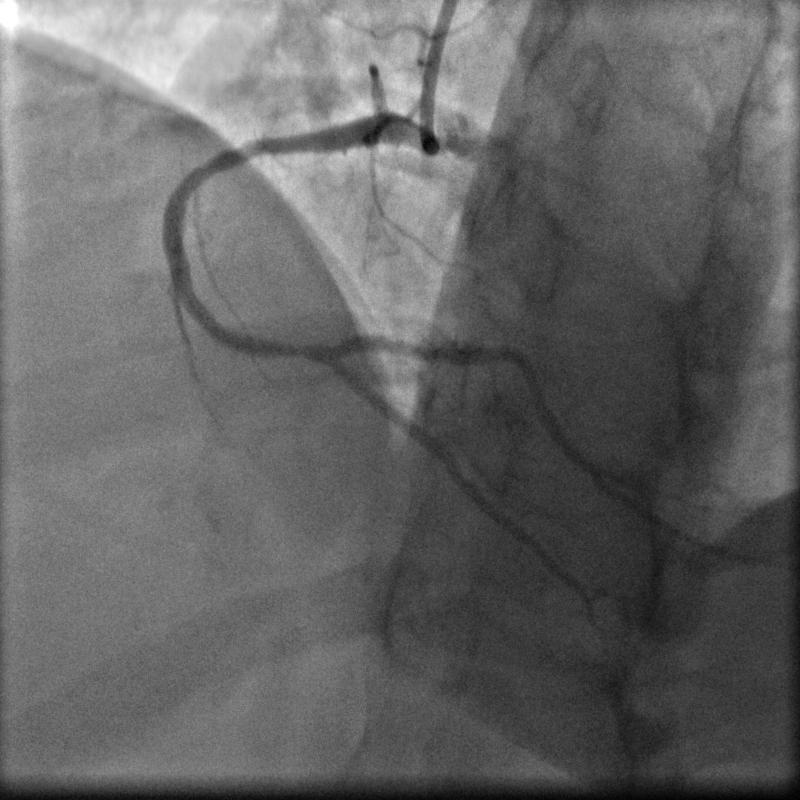Stenosis: (273, 334, 315, 364)
